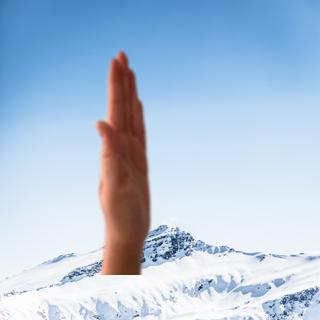Right: (82, 32, 158, 258)
